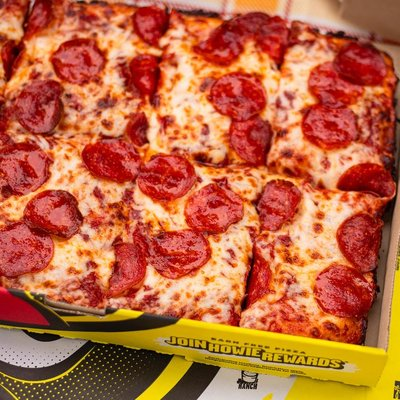sandwich: (0, 0, 396, 348)
